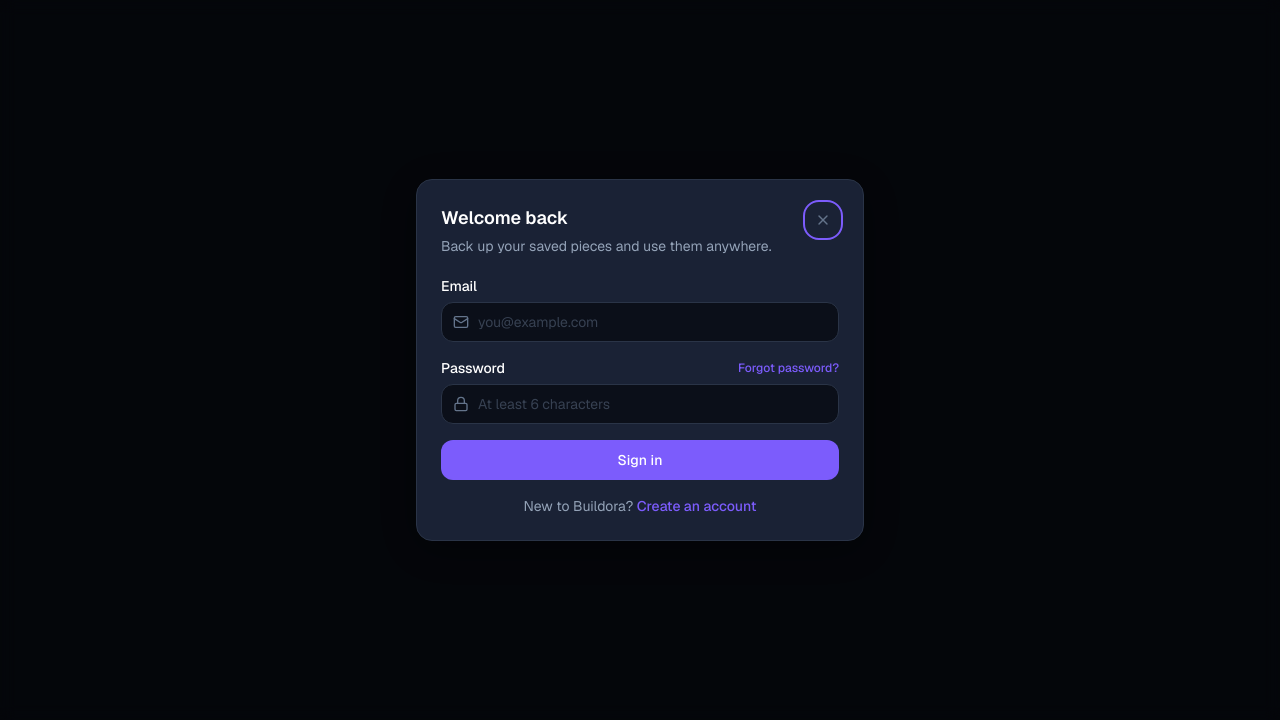
Test: AuthDialog › shows user-safe errors from the provider without leaking account existence
Type "a@example.com" into the field labelled "Email" at (640, 322), box left=441, top=302, right=839, bottom=342
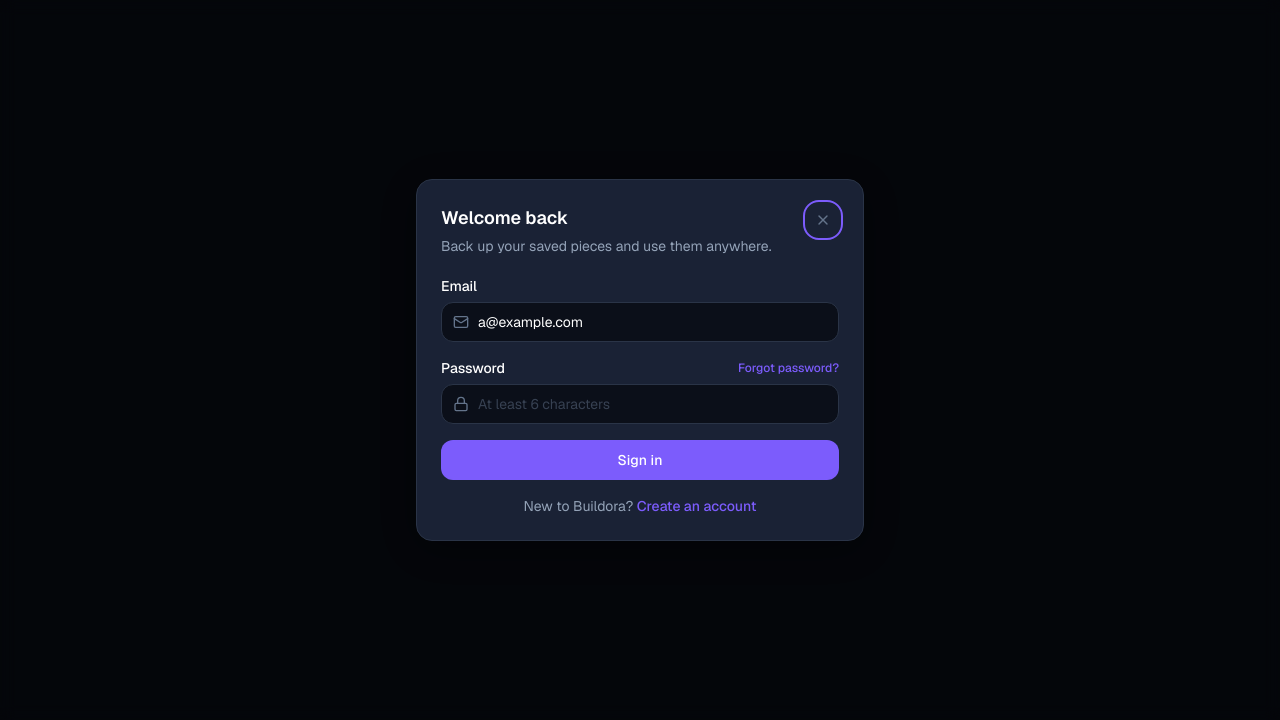
Type "secret1" into the password field labelled "Password" at (640, 404), box left=441, top=384, right=839, bottom=424
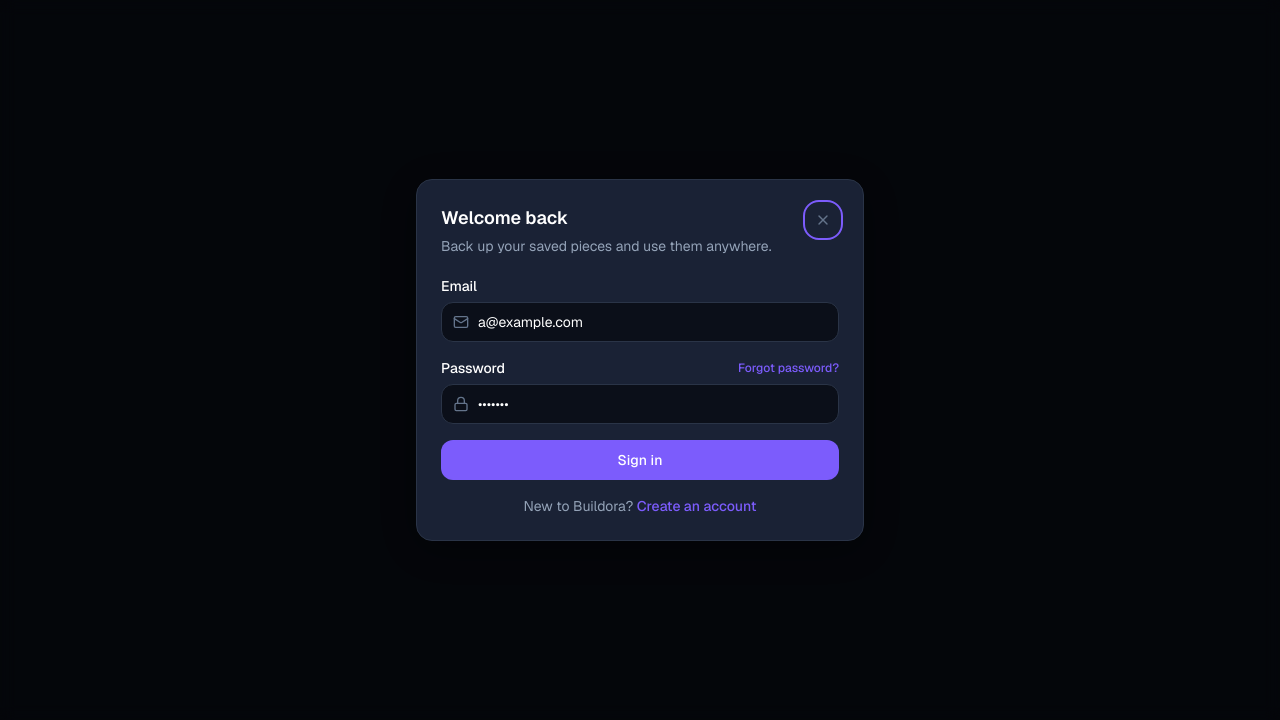
Click the button "Sign in" at (640, 460), box left=441, top=440, right=839, bottom=480
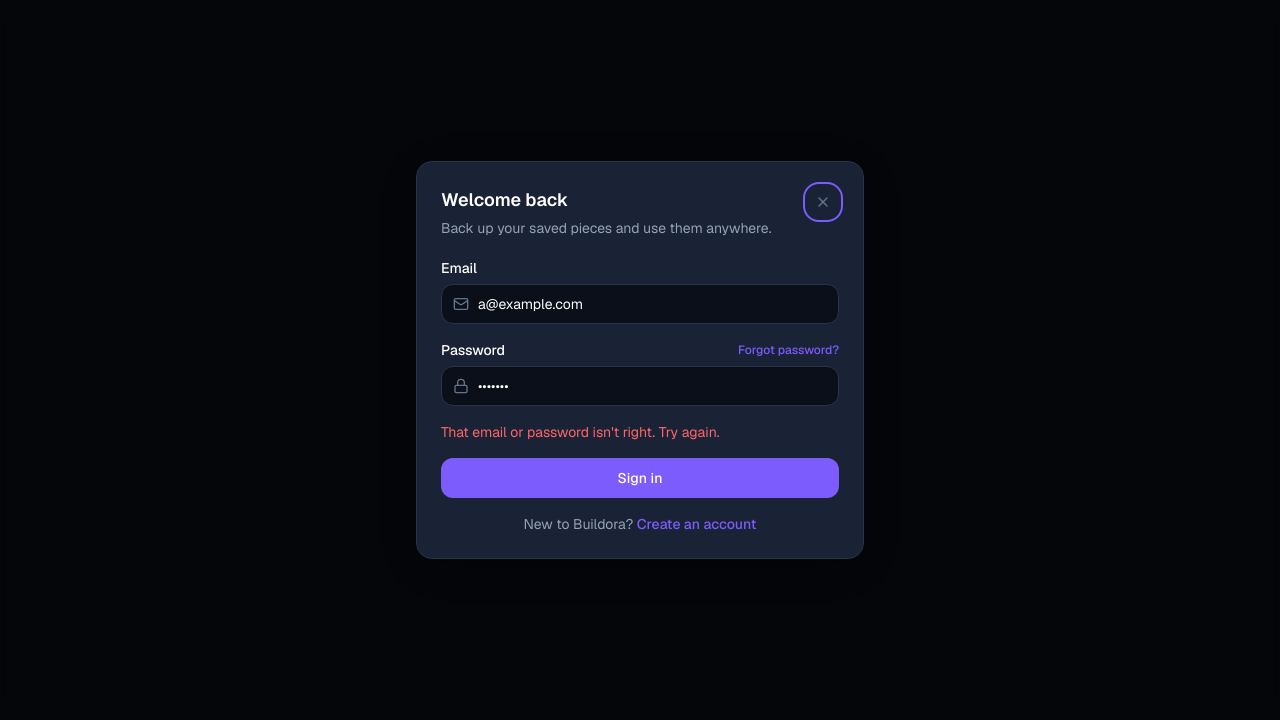
Check: the message reads "That email or password isn't right. Try again.", box left=441, top=423, right=720, bottom=441
